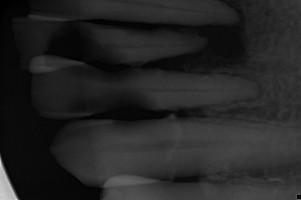Dental Caries: (138, 0, 246, 71)
